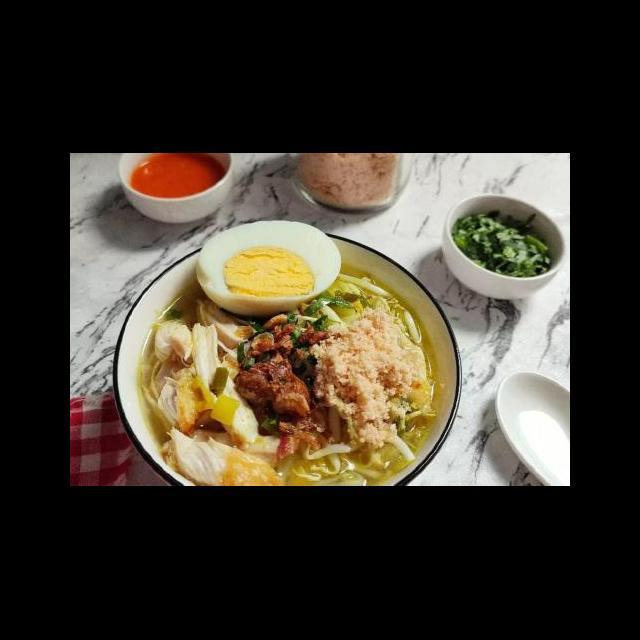Soto: (157, 235, 440, 491)
